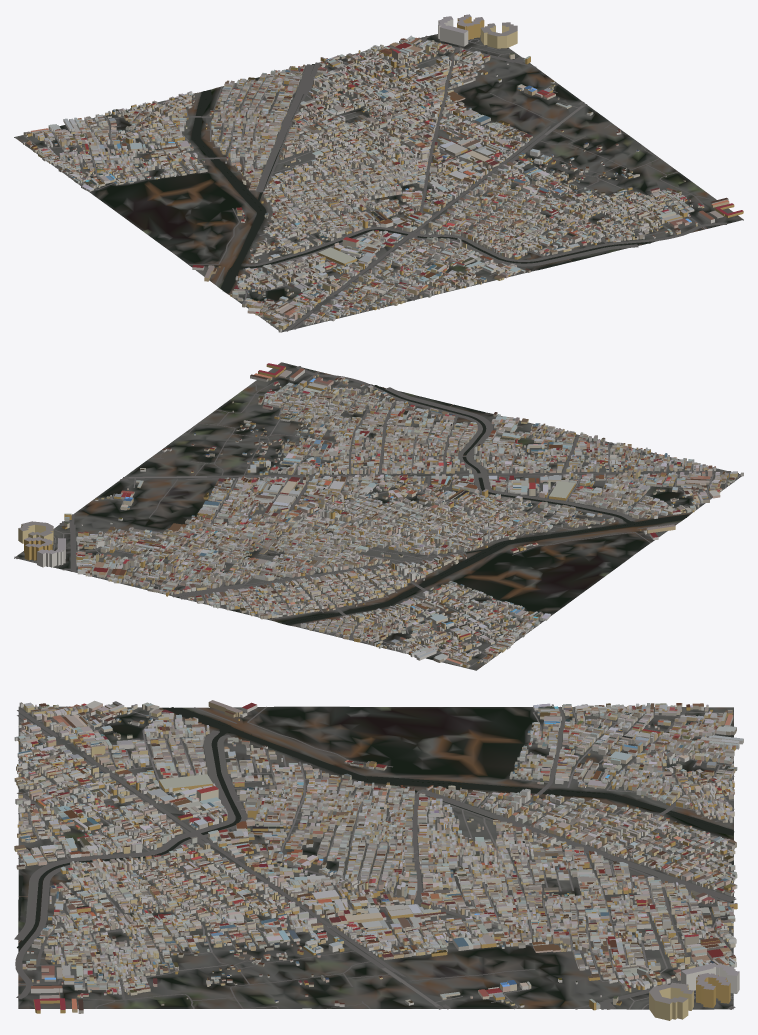
The picture shows the model from 3 angles, top to bottom: view 1: azimuth 30°, elevation 25°; view 2: azimuth 150°, elevation 25°; view 3: azimuth 270°, elevation 25°; orthographic projection. The views are drawn at different scales.
Visible parts, largest first — view 1: buildings, ground, roads, water; view 2: buildings, ground, roads, water; view 3: buildings, ground, roads, water.
Part boxes in pixels (box(x1,y1,x2,y2)): buildings: box(23, 14, 743, 332); ground: box(14, 34, 743, 332); roads: box(22, 35, 727, 331); water: box(191, 64, 654, 293); buildings: box(18, 363, 743, 667); ground: box(14, 362, 741, 670); roads: box(14, 366, 739, 668); water: box(177, 384, 689, 624); buildings: box(14, 700, 743, 1020); ground: box(18, 706, 733, 1009); roads: box(14, 706, 736, 1009); water: box(17, 707, 734, 951).
Size of the model in its own units: 1467 by 43.42 by 1429.
